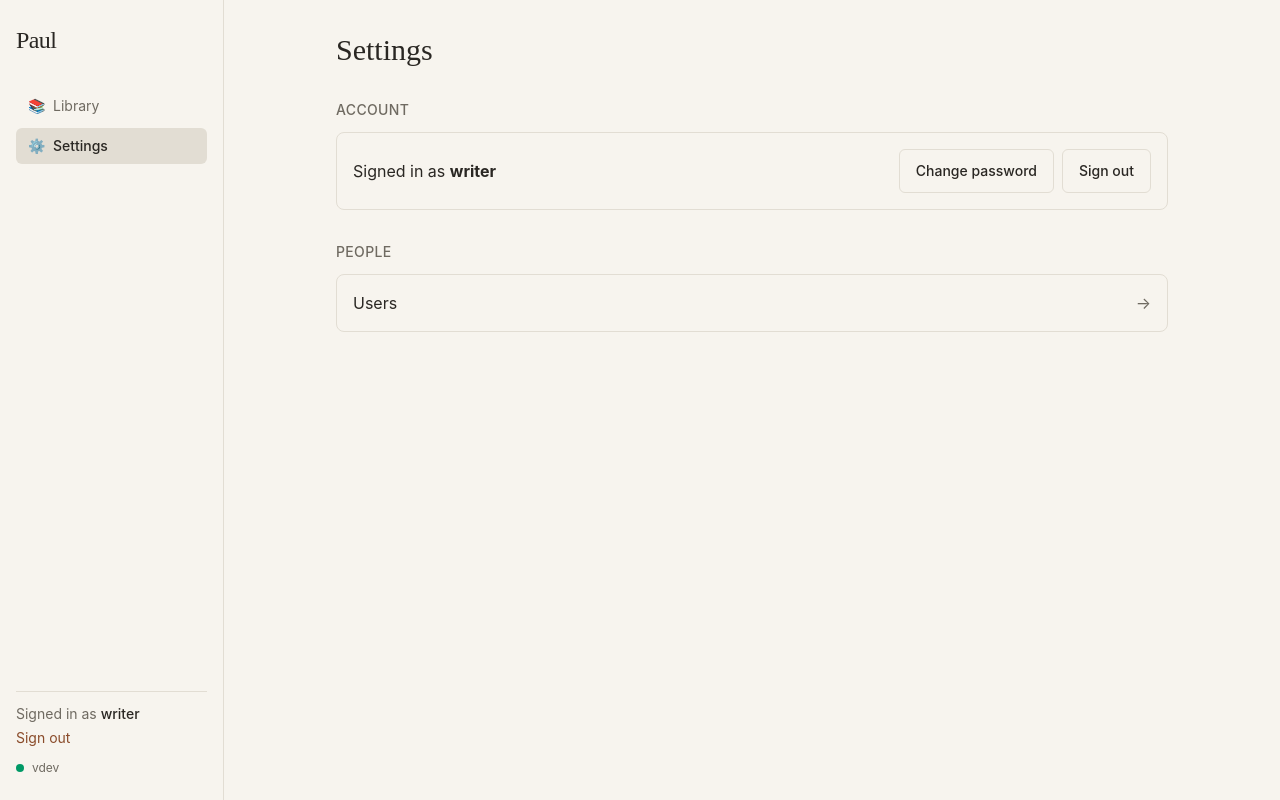
Test case: users page › is linked from settings
The image size is (1280, 800).
Click the link "Users →". click: {"x": 375, "y": 303}
box: [336,274,1168,332]
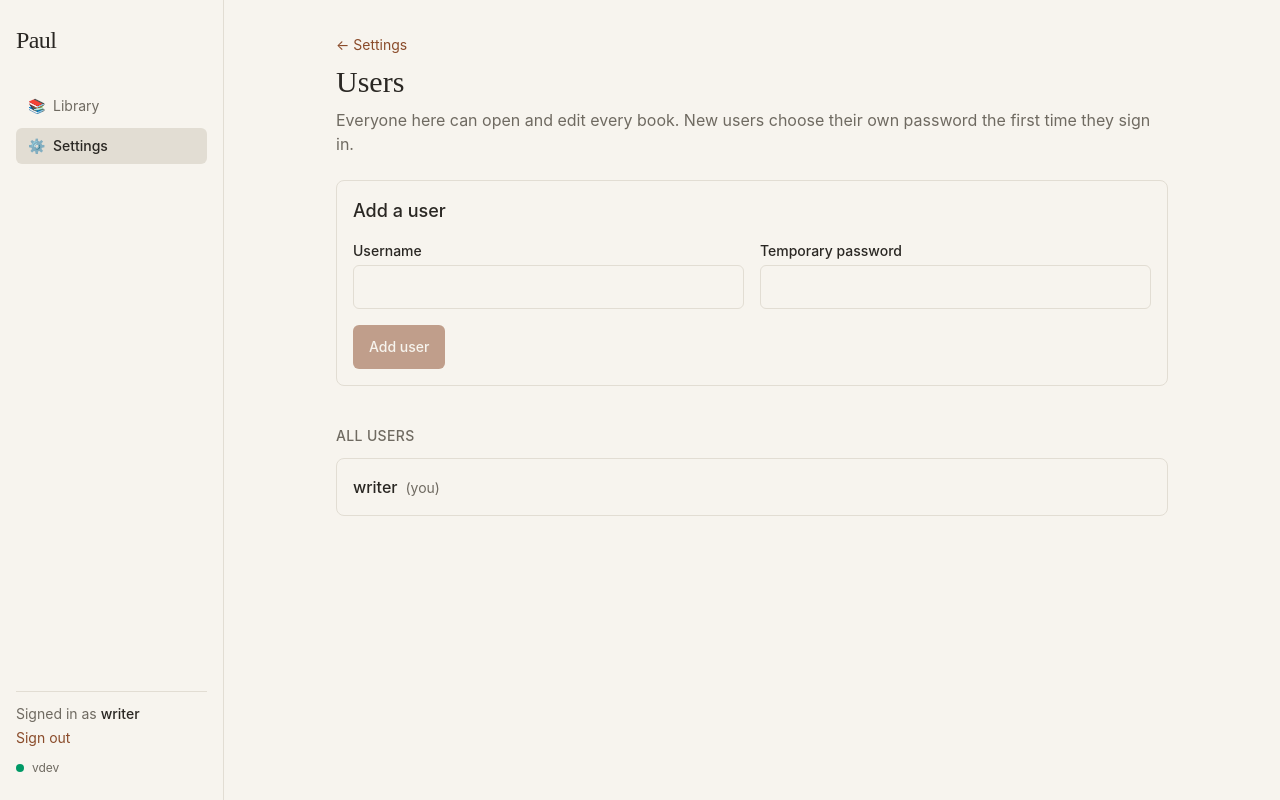
Expected: the heading "Users" is shown, [336,65,404,98]
